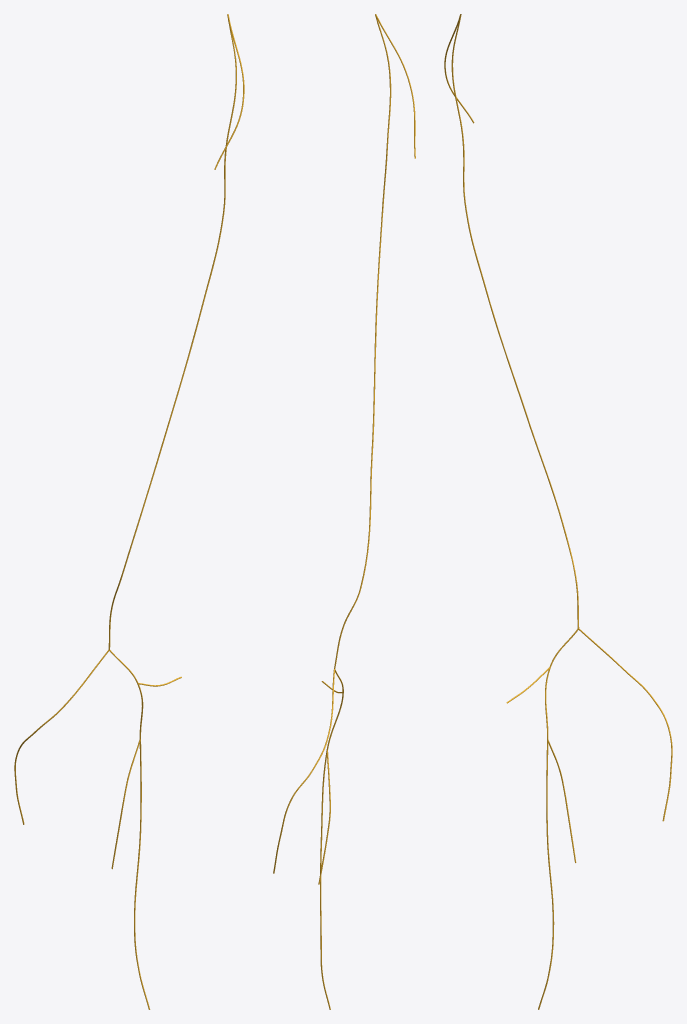
Rendered from nervoso-saphenous-nerve-l.glb.
The picture shows the model from 3 angles, left to right: view 1: azimuth 90°, elevation 25°; view 2: azimuth 150°, elevation 25°; view 3: azimuth 270°, elevation 25°; orthographic projection. The views are drawn at different scales.
Parts seen in each view (by area): view 1: Saphenous nerve.l; view 2: Saphenous nerve.l; view 3: Saphenous nerve.l.
Part boxes in pixels (left/top/right/bottom): Saphenous nerve.l: left=14, top=14, right=236, bottom=1009; Saphenous nerve.l: left=273, top=14, right=391, bottom=1009; Saphenous nerve.l: left=451, top=14, right=672, bottom=1009.
Bounding box in the file's own units: 0.0634 × 0.7578 × 0.1581.
